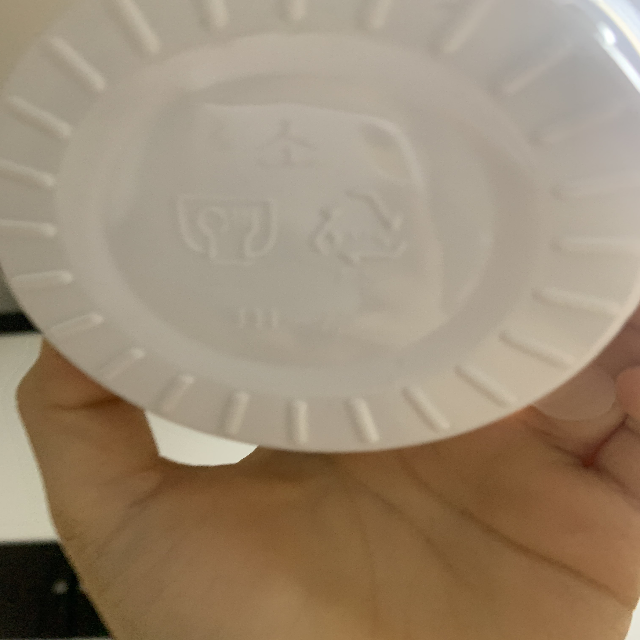ps: (304, 180, 412, 290)
